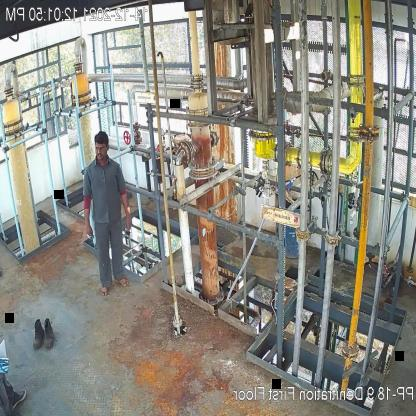no_shoes: (114, 277, 130, 287), (100, 285, 111, 298)
shoes: (41, 317, 56, 350), (31, 320, 44, 349)
